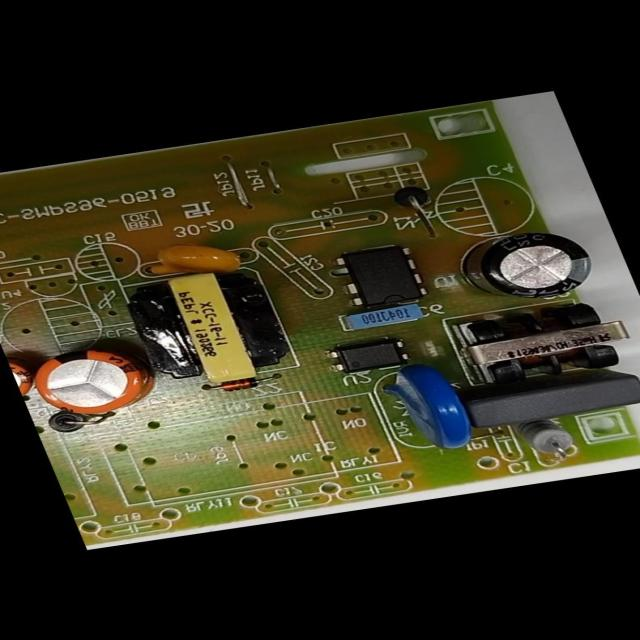Cap1: (26, 343, 153, 418)
Cap3: (452, 228, 602, 304)
MOSFET: (332, 243, 432, 308)
Mov: (384, 366, 481, 454)
Resistor: (515, 420, 579, 460)
Transformer: (123, 266, 304, 390), (463, 301, 639, 383)
